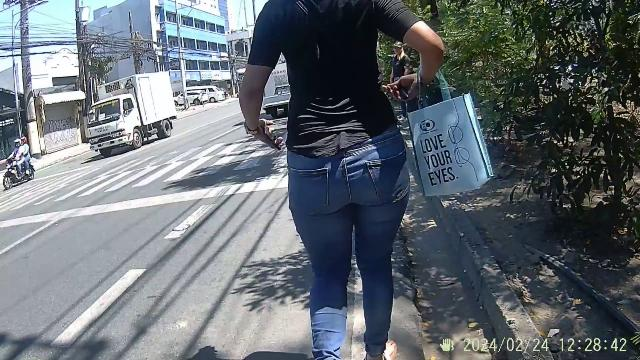car: (86, 71, 184, 155)
